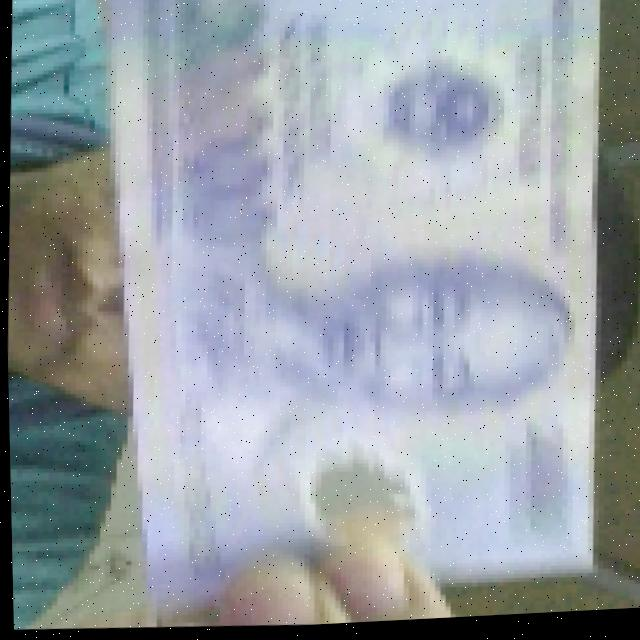20 000 VND: (88, 0, 625, 636)
